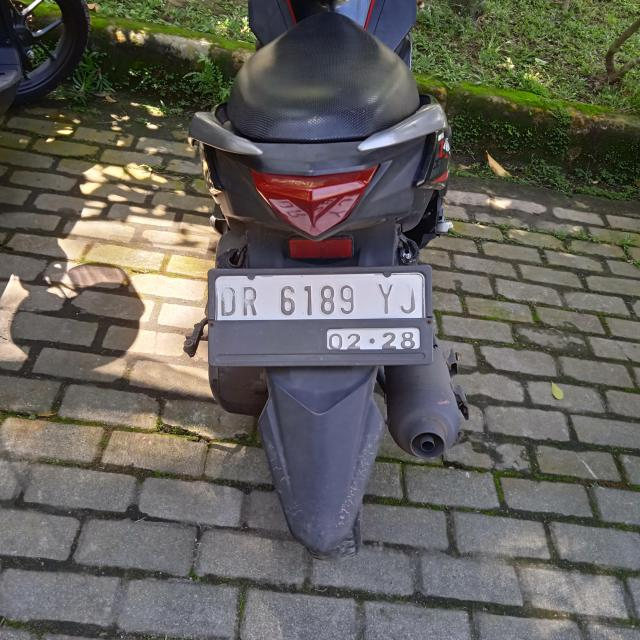plate: (216, 274, 425, 353)
